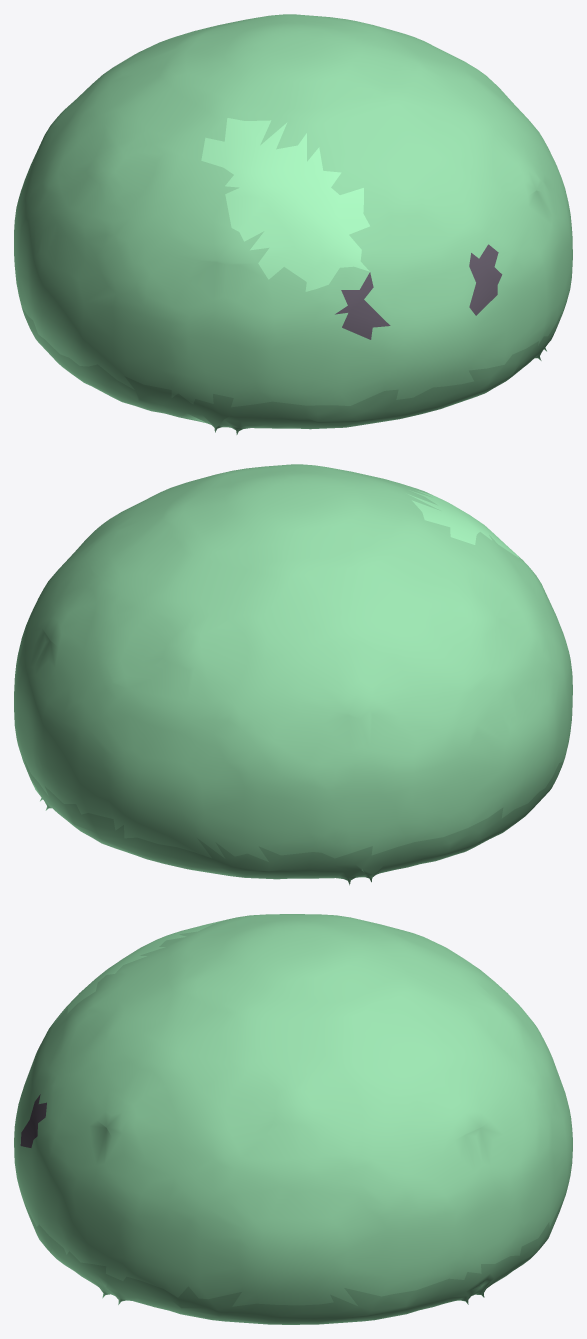
The model's file is slime.glb.
3 renders of one model, top to bottom at view 1: azimuth 30°, elevation 25°; view 2: azimuth 150°, elevation 25°; view 3: azimuth 270°, elevation 25°, orthographic.
Parts seen in each view (by area): view 1: slime; view 2: slime; view 3: slime.
Boxes of the visible parts, x1=… form: slime: x1=14, y1=14, x2=572, y2=434; slime: x1=14, y1=464, x2=572, y2=885; slime: x1=14, y1=914, x2=572, y2=1324.
Size of the model in its own units: 38.13 by 21.15 by 38.12.
